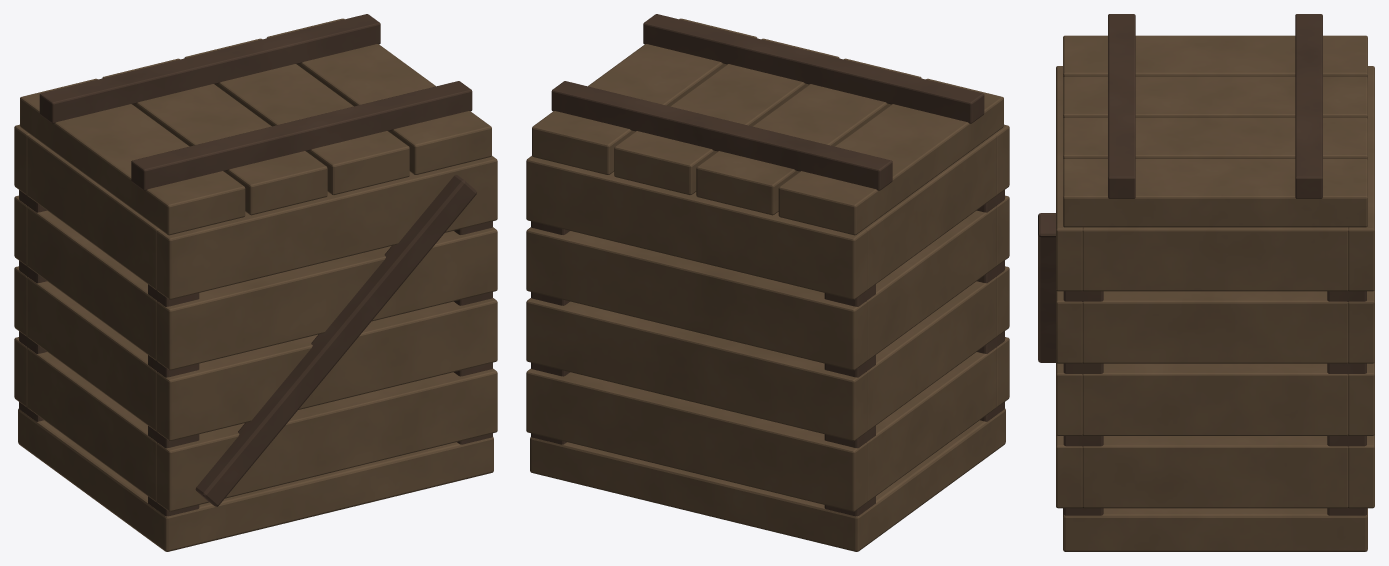
The model's file is Crate_Closed.fbx.
The picture shows the model from 3 angles, left to right: view 1: azimuth 30°, elevation 25°; view 2: azimuth 150°, elevation 25°; view 3: azimuth 270°, elevation 25°; orthographic projection. The views are drawn at different scales.
Visible parts, largest first — view 1: Crate_Closed.001; view 2: Crate_Closed.001; view 3: Crate_Closed.001.
Boxes of the visible parts, left/top/right/bottom form: Crate_Closed.001: left=14, top=14, right=497, bottom=551; Crate_Closed.001: left=526, top=14, right=1009, bottom=551; Crate_Closed.001: left=1038, top=14, right=1374, bottom=551.
Bounding box in the file's own units: 1.12 × 1.19 × 0.9715.
